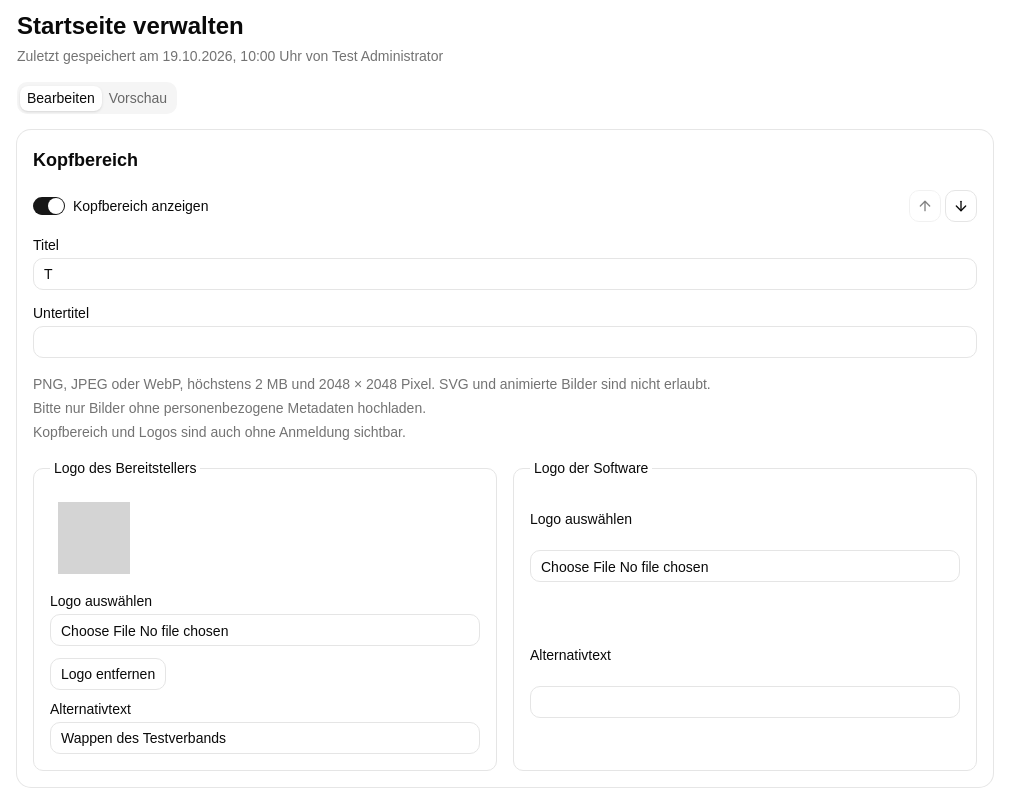
Logos (AK-10) › zeigt nach „Logo entfernen“ keine Logo-Vorschau mehr
Expected: the switch named "Kopfbereich anzeigen" is shown, [33,197,65,215]
Step 1. Click the button "Logo entfernen" → (108, 674), box [50,658,166,690]
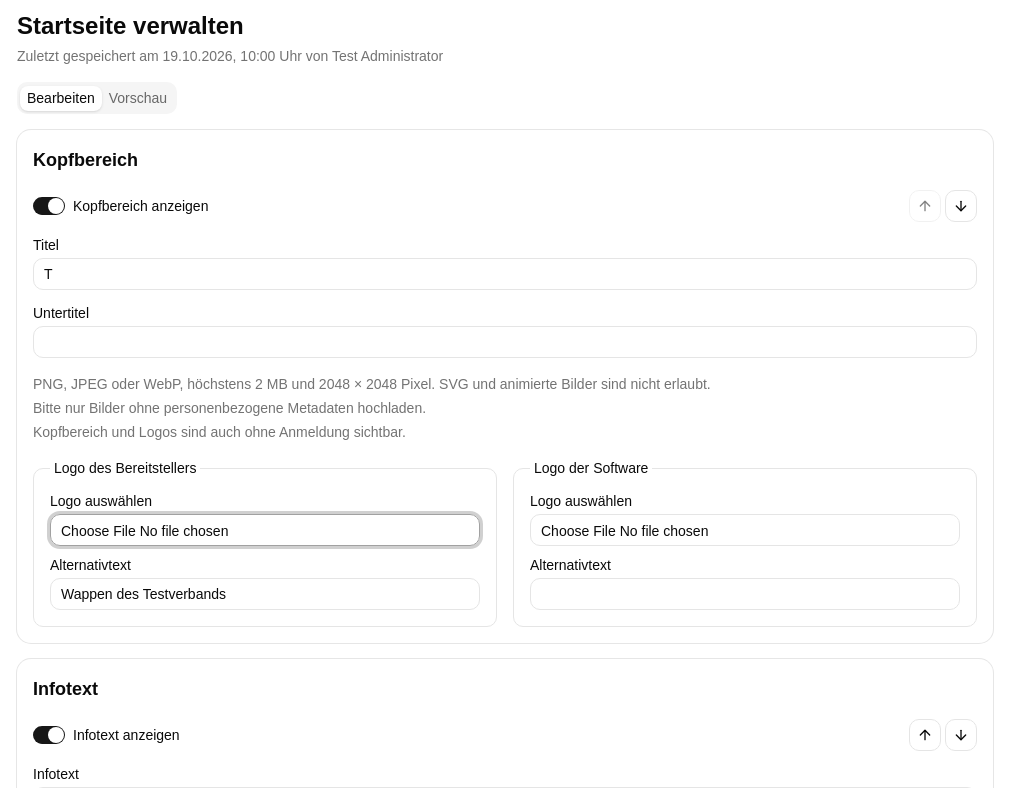
Expected: the picture is gone
